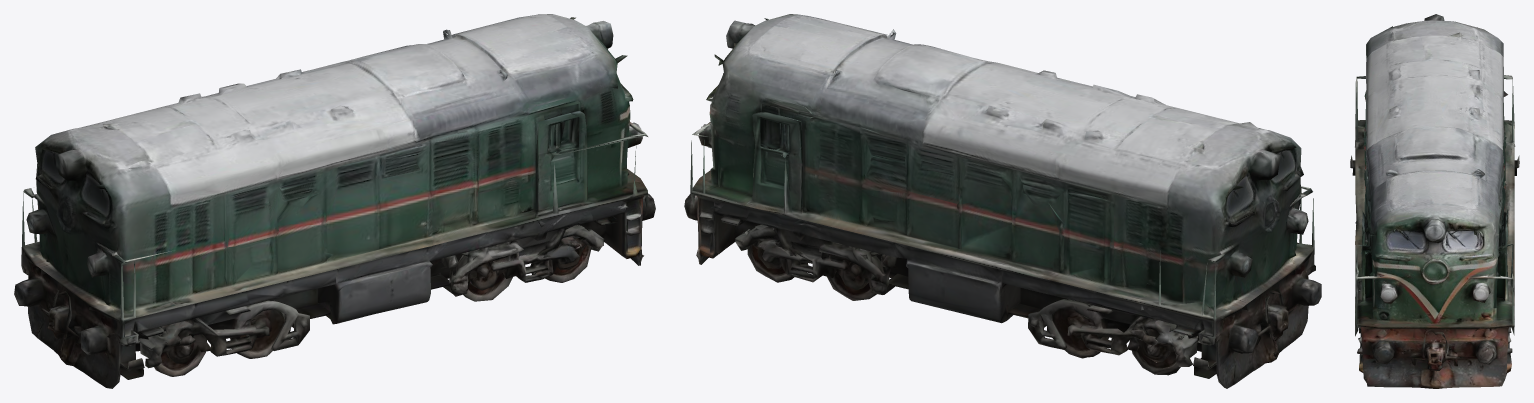
File: rd_loco.glb
3 renders of one model, left to right at view 1: azimuth 30°, elevation 25°; view 2: azimuth 150°, elevation 25°; view 3: azimuth 270°, elevation 25°, orthographic. The views are drawn at different scales.
Visible parts, largest first — view 1: tripo_node_7a2b9eba-7cba-4a15-b90b-636b1d6700c8; view 2: tripo_node_7a2b9eba-7cba-4a15-b90b-636b1d6700c8; view 3: tripo_node_7a2b9eba-7cba-4a15-b90b-636b1d6700c8.
Boxes of the visible parts, x1,y1,x2,y2 form: tripo_node_7a2b9eba-7cba-4a15-b90b-636b1d6700c8: (14, 14, 655, 388); tripo_node_7a2b9eba-7cba-4a15-b90b-636b1d6700c8: (684, 14, 1321, 388); tripo_node_7a2b9eba-7cba-4a15-b90b-636b1d6700c8: (1350, 14, 1519, 388).
Bounding box in the file's own units: 0.9772 × 0.3705 × 0.3195.
Materials: 1 (1 with a texture image).
